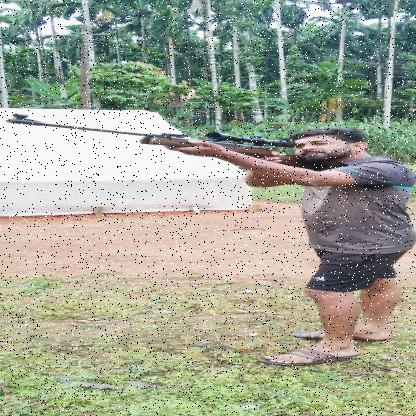rifle: (4, 112, 322, 174)
